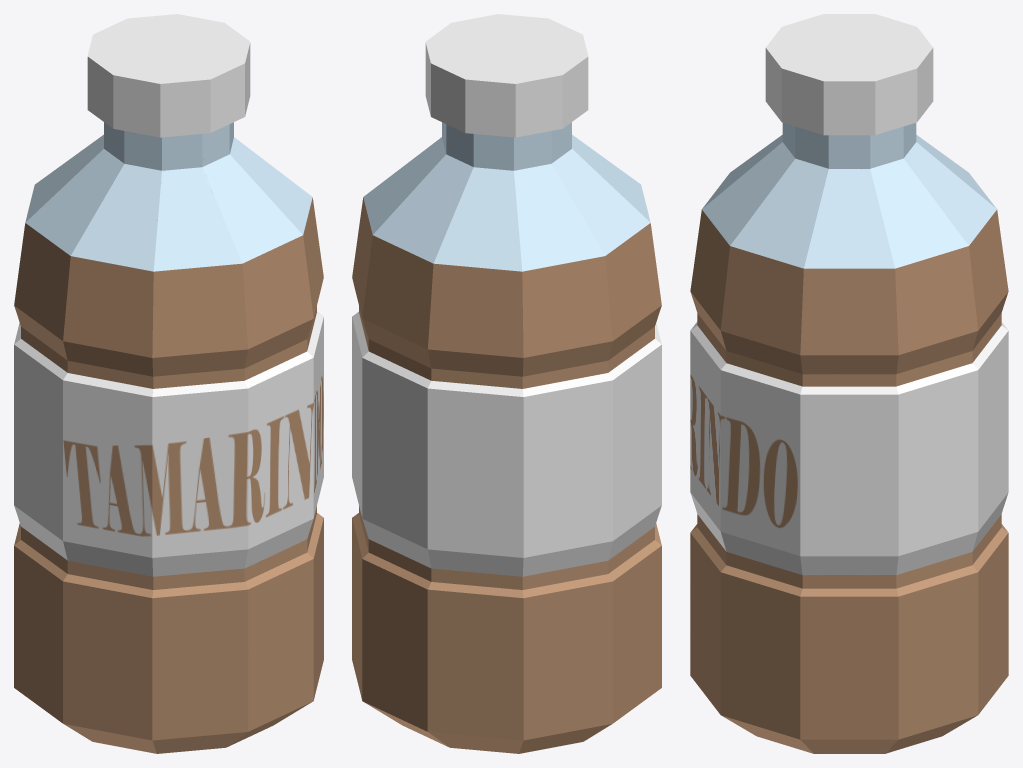
The model's file is BotellaTamarindo.fbx.
3 views of the same model, side by side, from view 1: azimuth 30°, elevation 25°; view 2: azimuth 150°, elevation 25°; view 3: azimuth 270°, elevation 25° (orthographic).
Visible parts, largest first — view 1: p3_botella_agua_tamarindo; view 2: p3_botella_agua_tamarindo; view 3: p3_botella_agua_tamarindo.
Part boxes in pixels (<box>): p3_botella_agua_tamarindo: <box>14,14,323,753</box>; p3_botella_agua_tamarindo: <box>352,14,661,753</box>; p3_botella_agua_tamarindo: <box>690,14,1008,753</box>.
Bounding box in the file's own units: 0.2036 × 0.49 × 0.2141.
